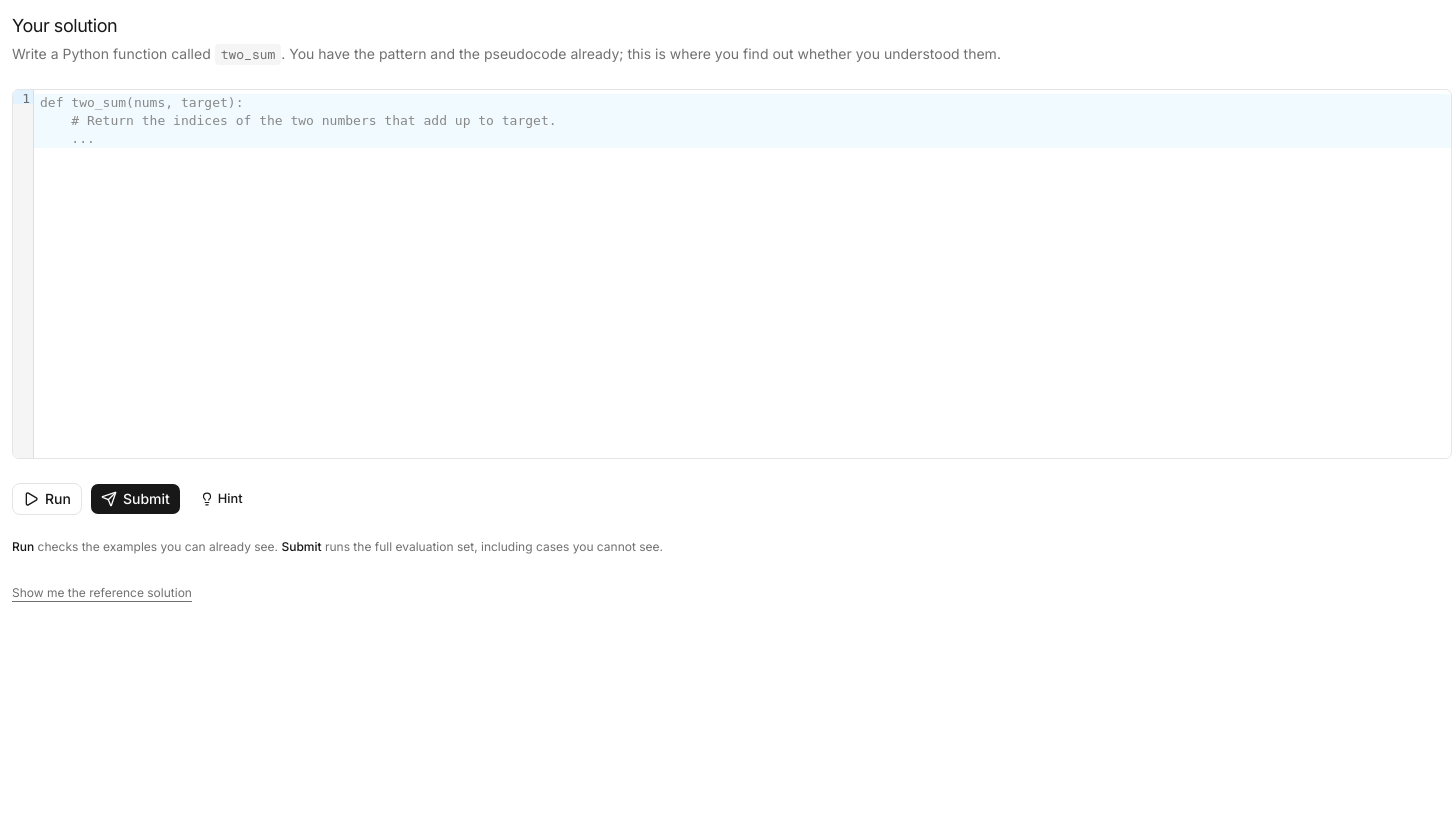
it: when the code fails › reports a crash with its line, and does not claim a wrong answer
Click the button "Submit".
click(135, 499)  # box [90,483,181,515]
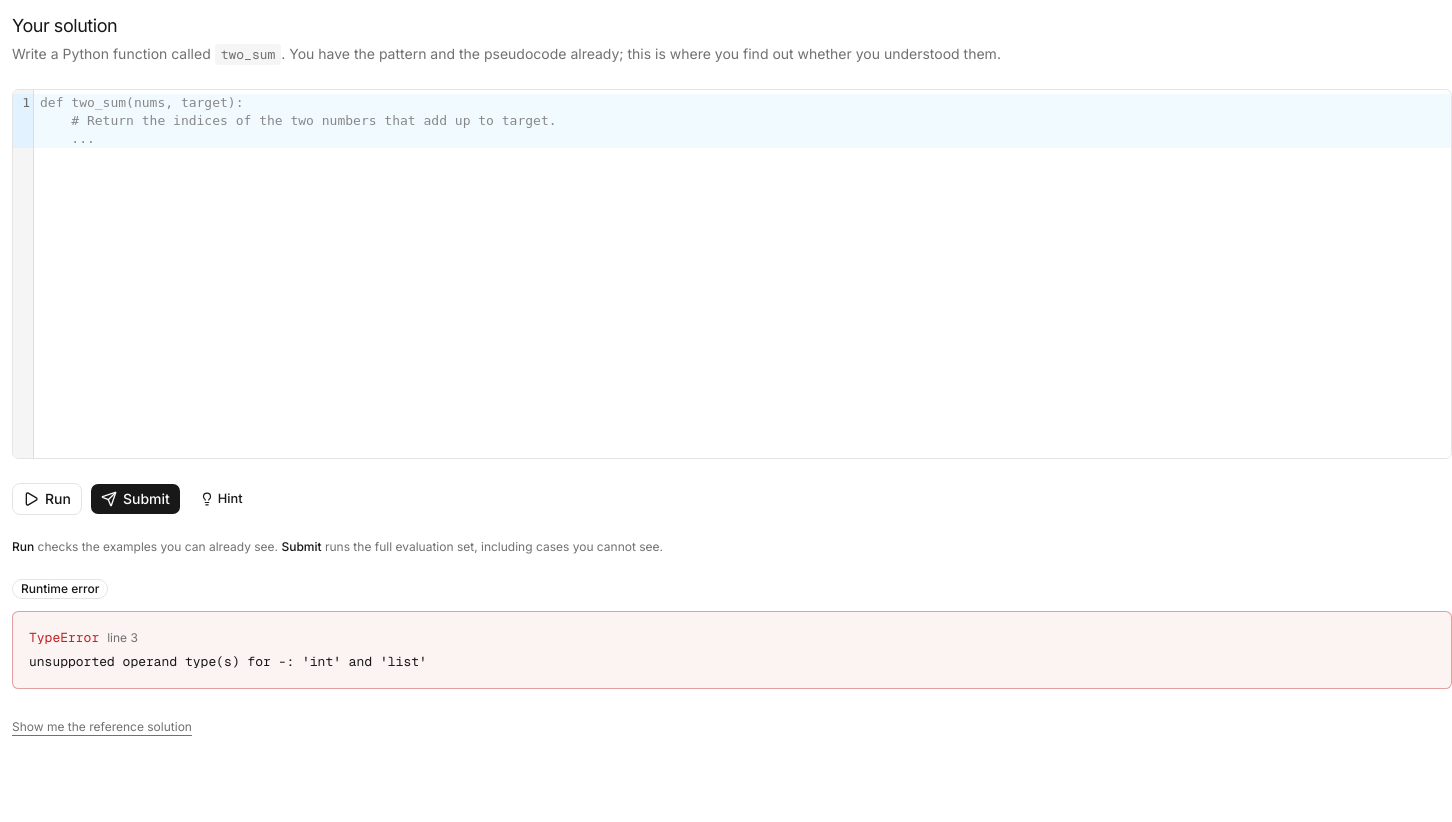
Expected: the text "Runtime error" is shown, [12,579,108,599]
Expected: the text "TypeError" is shown, [29,628,99,647]
Expected: the text "line 3" is shown, [107,630,138,646]
